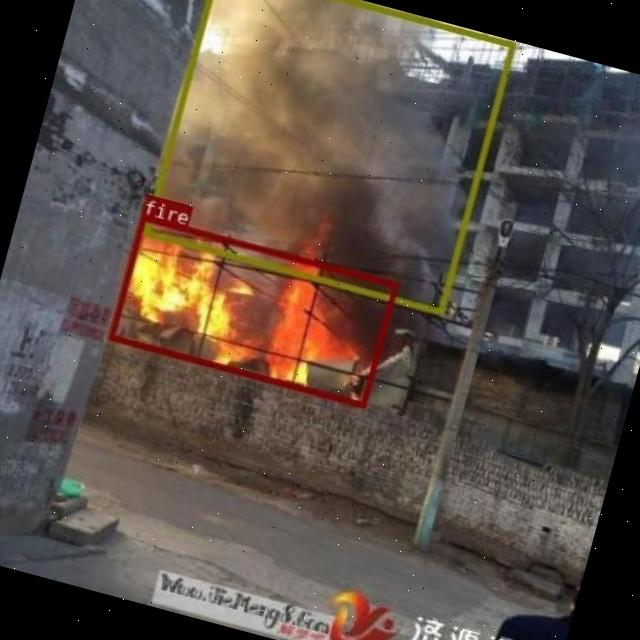fire: (106, 212, 398, 406)
smoke: (143, 0, 514, 314)
